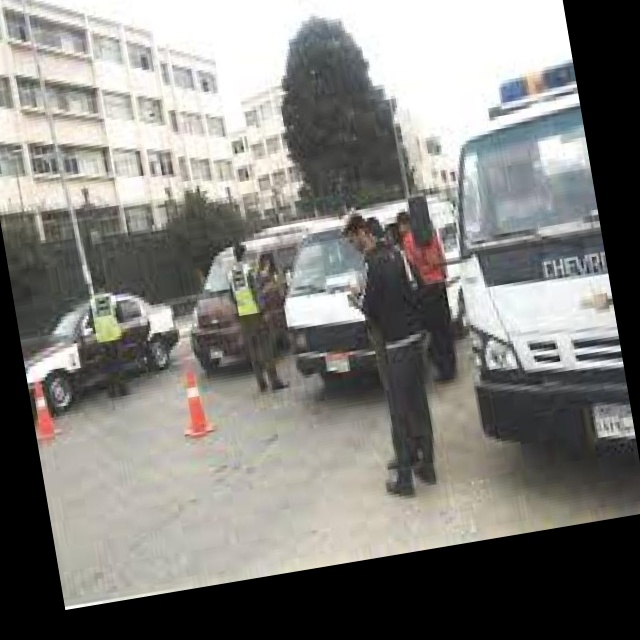car: (267, 204, 397, 448), (15, 280, 187, 421)
person: (336, 204, 479, 478), (220, 235, 291, 395)
police-car: (426, 10, 640, 485)
